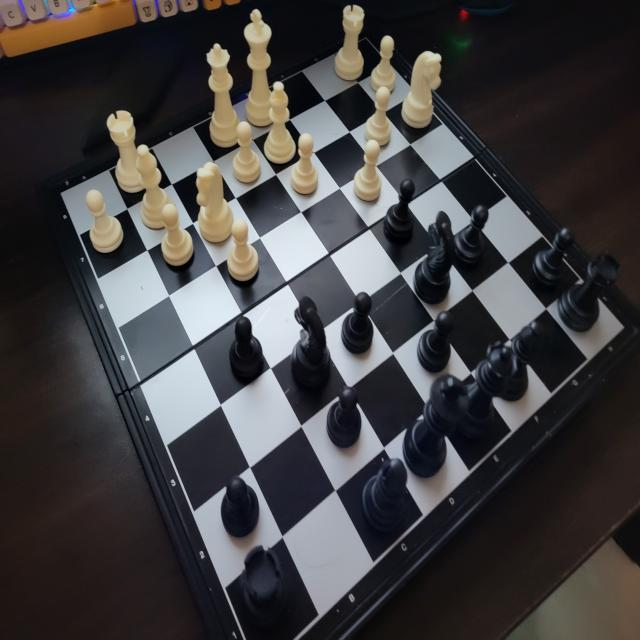black-bishop: (360, 457, 411, 537), (504, 318, 544, 402)
black-king: (402, 373, 470, 479)
black-knight: (413, 209, 455, 306), (290, 294, 332, 390)
black-pawn: (528, 226, 577, 289), (220, 475, 260, 540), (416, 310, 455, 374), (326, 385, 364, 450), (228, 314, 264, 380), (454, 202, 489, 266), (341, 290, 374, 356), (385, 178, 415, 241)
black-queen: (462, 342, 518, 444)
black-rook: (558, 251, 623, 336), (240, 544, 288, 630)
chess-board: (60, 33, 638, 640)
white-bishop: (134, 143, 175, 228), (264, 81, 296, 163)
white-king: (244, 9, 276, 126)
white-knight: (400, 49, 442, 131), (196, 162, 233, 242)
white-pawn: (84, 187, 125, 256), (161, 203, 195, 270), (227, 218, 259, 283), (233, 120, 261, 184), (354, 139, 382, 202), (291, 134, 319, 196), (365, 86, 392, 147), (370, 35, 396, 96)
white-queen: (206, 41, 241, 148)
white-rook: (106, 108, 146, 192), (335, 3, 365, 82)
